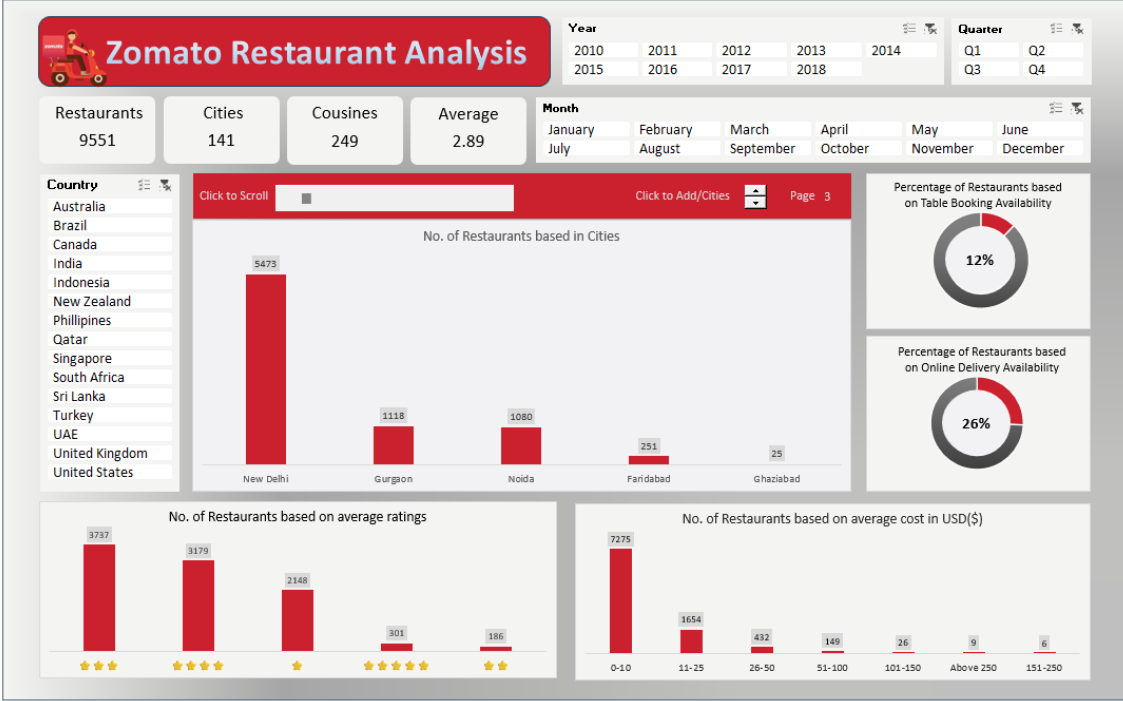

The page's visual inventory and layout, read from the dashboard file:
{"tool":"powerbi","page":{"name":"India","canvas":[1920,1166],"ordinal":4},"visuals":[{"type":"shape","box":[1097.8,100.7,795.2,94.7],"z":0},{"type":"card","fields":{"Values":["Metrics.No. of Restaurants"]},"box":[21,101,160,95],"z":1000},{"type":"card","fields":{"Values":["Metrics.No. of Cities"]},"box":[198.9,100.6,159.1,96.1],"z":2000},{"type":"card","fields":{"Values":["Metrics.No. of Cuisines"]},"box":[376.9,102.2,160.7,94.5],"z":3000},{"type":"card","fields":{"Values":["Metrics.Avg Ratings"]},"box":[556.4,102.2,160.7,94.5],"z":4000},{"type":"barChart","fields":{"Category":["Main.City"],"Y":["Metrics.No. of Restaurants"]},"box":[279.5,235.2,617.2,903.6],"z":5000},{"type":"card","fields":{"Values":["Metrics.% Restaurants with Online Delivery"]},"box":[735.7,103.1,160.9,94.7],"z":6000},{"type":"card","fields":{"Values":["Metrics.% Restaurants with Table Booking"]},"box":[917.9,103.1,160.9,94.7],"z":7000},{"type":"slicer","fields":{"Values":["Dim_Date.Year"]},"box":[1114.4,112.6,160.9,73.4],"z":8000},{"type":"slicer","fields":{"Values":["Dim_Date.Quarter"]},"box":[1310.8,112.6,160.9,73.4],"z":9000},{"type":"slicer","fields":{"Values":["Dim_Date.MonthName"]},"box":[1507.2,112.6,160.9,73.4],"z":10000},{"type":"slicer","fields":{"Values":["Main.City"]},"box":[1703.7,112.6,160.9,73.4],"z":11000},{"type":"tableEx","fields":{"Values":["Main.RestaurantName","Main.Cuisines","Main.Rating Bucket","Main.Average_Cost_for_two"]},"box":[917.6,235.2,975.8,903.6],"z":12000},{"type":"textbox","box":[21,16.3,1870.1,65.2],"z":13000},{"type":"pageNavigator","box":[23.3,235.2,237.6,903.6],"z":14000}]}

Visuals, with their boxes in screenshot pixels (x1, y1, x2, y2), scaled from the page's 1920x1166 canvas onto the 1123x701 screenshot:
shape: <region>642, 61, 1107, 117</region>
card - Metrics.No. of Restaurants: <region>12, 61, 106, 118</region>
card - Metrics.No. of Cities: <region>116, 60, 209, 118</region>
card - Metrics.No. of Cuisines: <region>220, 61, 314, 118</region>
card - Metrics.Avg Ratings: <region>325, 61, 419, 118</region>
barChart - Main.City x Metrics.No. of Restaurants: <region>163, 141, 524, 685</region>
card - Metrics.% Restaurants with Online Delivery: <region>430, 62, 524, 119</region>
card - Metrics.% Restaurants with Table Booking: <region>537, 62, 631, 119</region>
slicer - Dim_Date.Year: <region>652, 68, 746, 112</region>
slicer - Dim_Date.Quarter: <region>767, 68, 861, 112</region>
slicer - Dim_Date.MonthName: <region>882, 68, 976, 112</region>
slicer - Main.City: <region>996, 68, 1091, 112</region>
tableEx - Main.RestaurantName x Main.Cuisines: <region>537, 141, 1107, 685</region>
textbox: <region>12, 10, 1106, 49</region>
pageNavigator: <region>14, 141, 153, 685</region>
